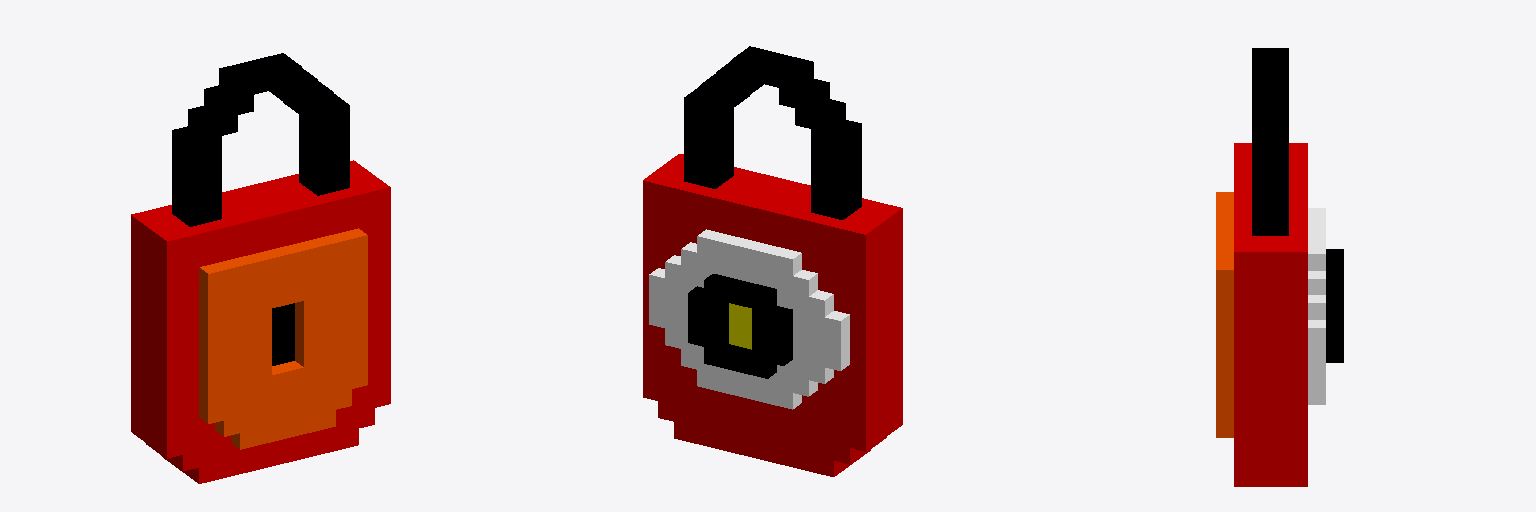
The picture shows the model from 3 angles: view 1: azimuth 30°, elevation 25°; view 2: azimuth 150°, elevation 25°; view 3: azimuth 270°, elevation 25°; orthographic projection.
Parts seen in each view (by area): view 1: object 1; view 2: object 1; view 3: object 1.
Boxes of the visible parts, x1,y1,x2,y2 form: object 1: [131, 53, 390, 483]; object 1: [643, 46, 902, 476]; object 1: [1216, 48, 1343, 486].
Bounding box in the file's own units: 1.4 × 2.3 × 0.7.
1 materials, 1 textured.